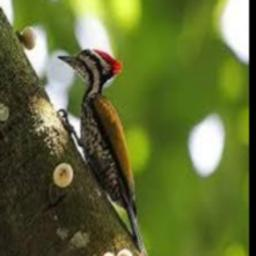Woodpecker: (57, 49, 146, 254)
